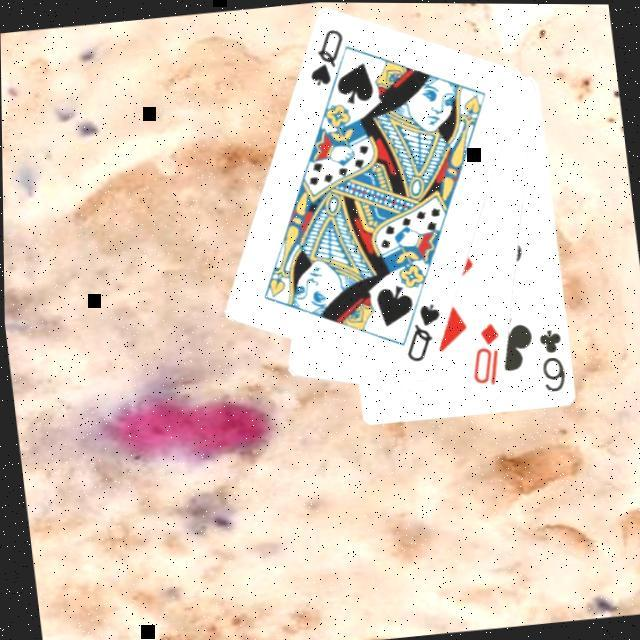10D: (463, 319, 508, 390)
6C: (534, 325, 570, 397)
QS: (397, 298, 448, 366), (302, 24, 353, 90)
